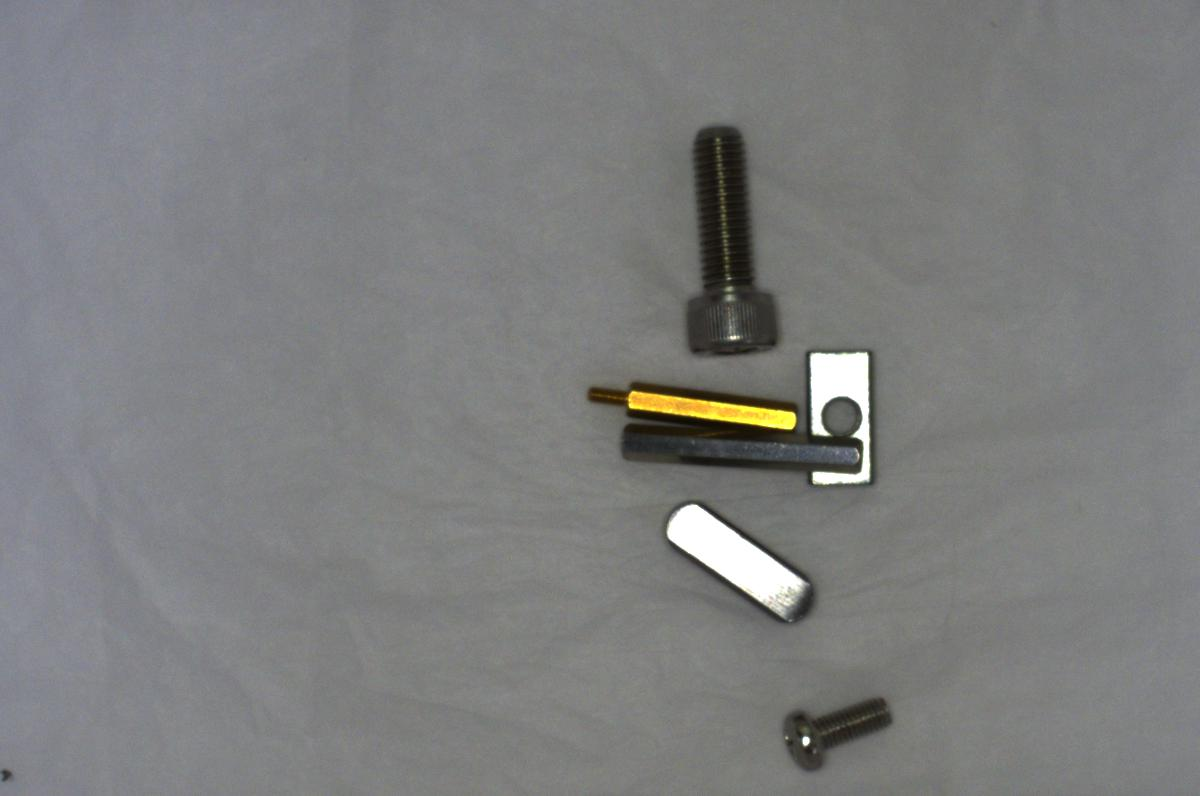Double hexagonal column: (607, 418, 873, 482)
Hexagon pillar: (579, 373, 805, 435)
Hexagon screw: (669, 108, 787, 359)
Keybar: (650, 489, 824, 632)
Rectangular nut: (802, 333, 889, 503)
Round head screw: (769, 677, 910, 783)
